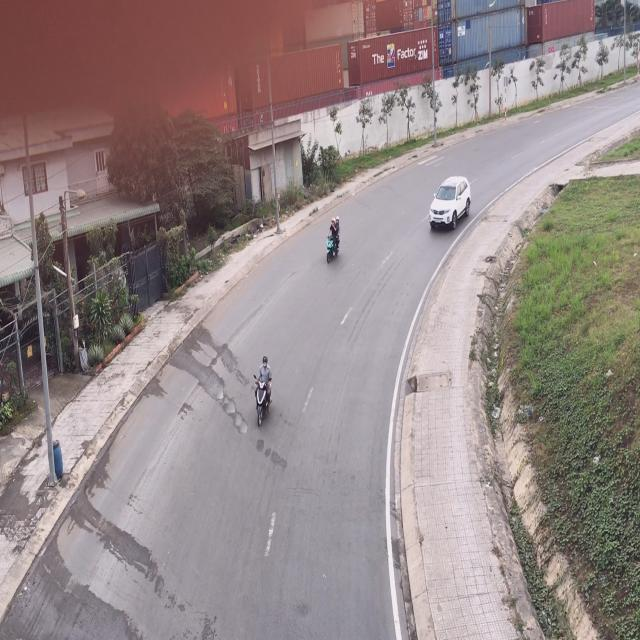car: (429, 177, 474, 235)
motorbike: (255, 354, 275, 426), (322, 216, 341, 268)
